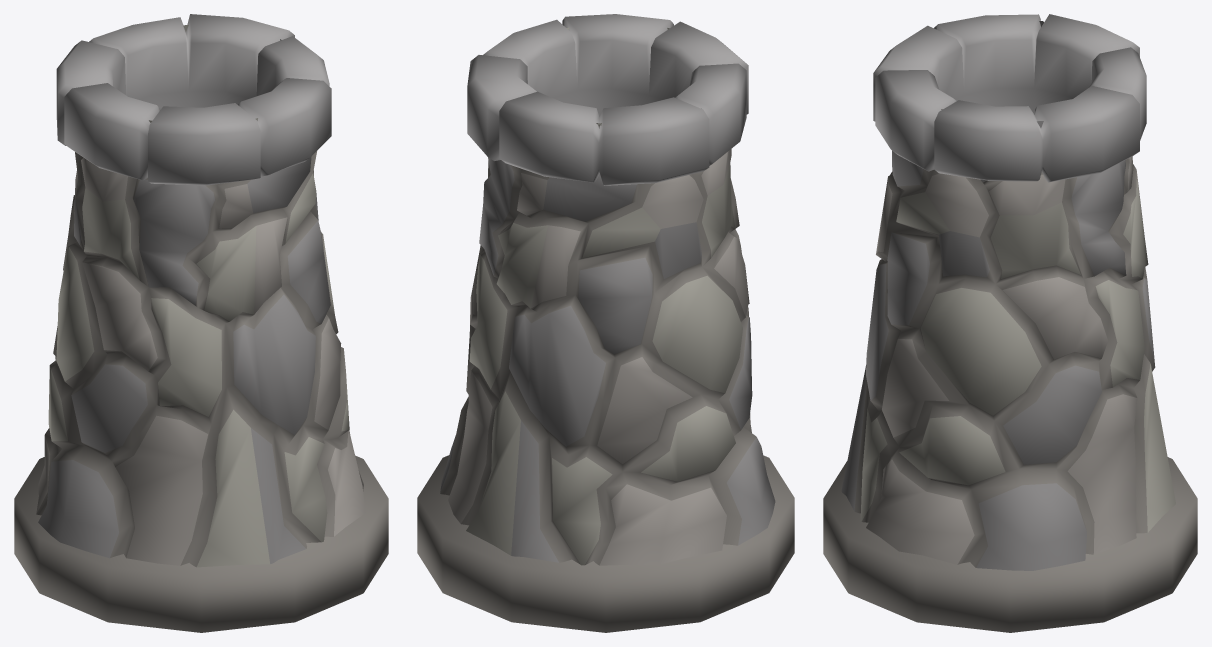
Rendered from rpgpp_ag_chimney_01a.fbx.
3 renders of one model, left to right at view 1: azimuth 30°, elevation 25°; view 2: azimuth 150°, elevation 25°; view 3: azimuth 270°, elevation 25°, orthographic.
Parts seen in each view (by area): view 1: rpgpp_ag_chimney_01a; view 2: rpgpp_ag_chimney_01a; view 3: rpgpp_ag_chimney_01a.
Boxes of the visible parts, box(x1,y1,x2,y2) form: rpgpp_ag_chimney_01a: box(14, 14, 388, 632); rpgpp_ag_chimney_01a: box(417, 14, 794, 632); rpgpp_ag_chimney_01a: box(823, 14, 1197, 632).
Bounding box in the file's own units: 2.18 × 3.11 × 2.18.
